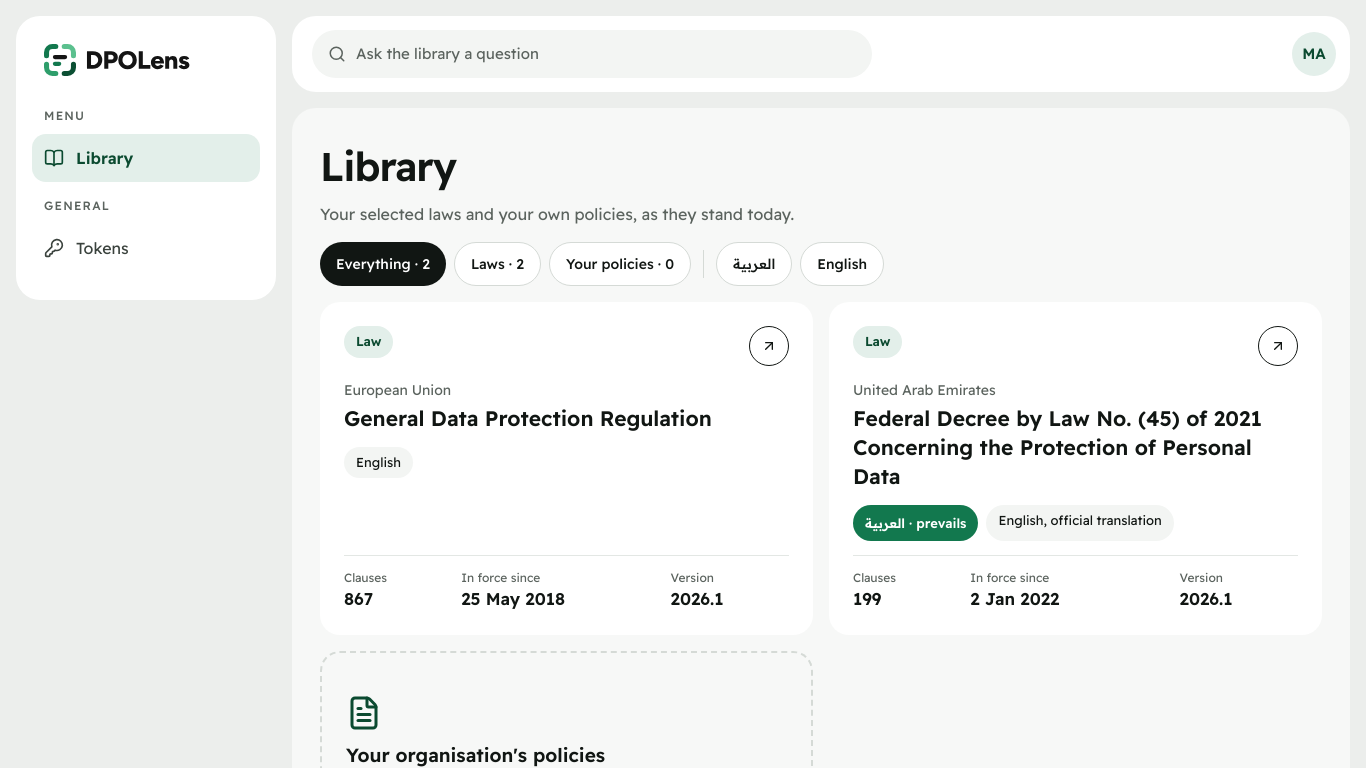
Test case: the library › filters by language
The image size is (1366, 768).
Expected: the heading "Federal Decree by Law No. (45) of 2021 Concerning the Protection of Personal Data" is shown, x1=853 y1=405 x2=1262 y2=489
Click the button "العربية": (754, 264) x1=716 y1=242 x2=792 y2=286
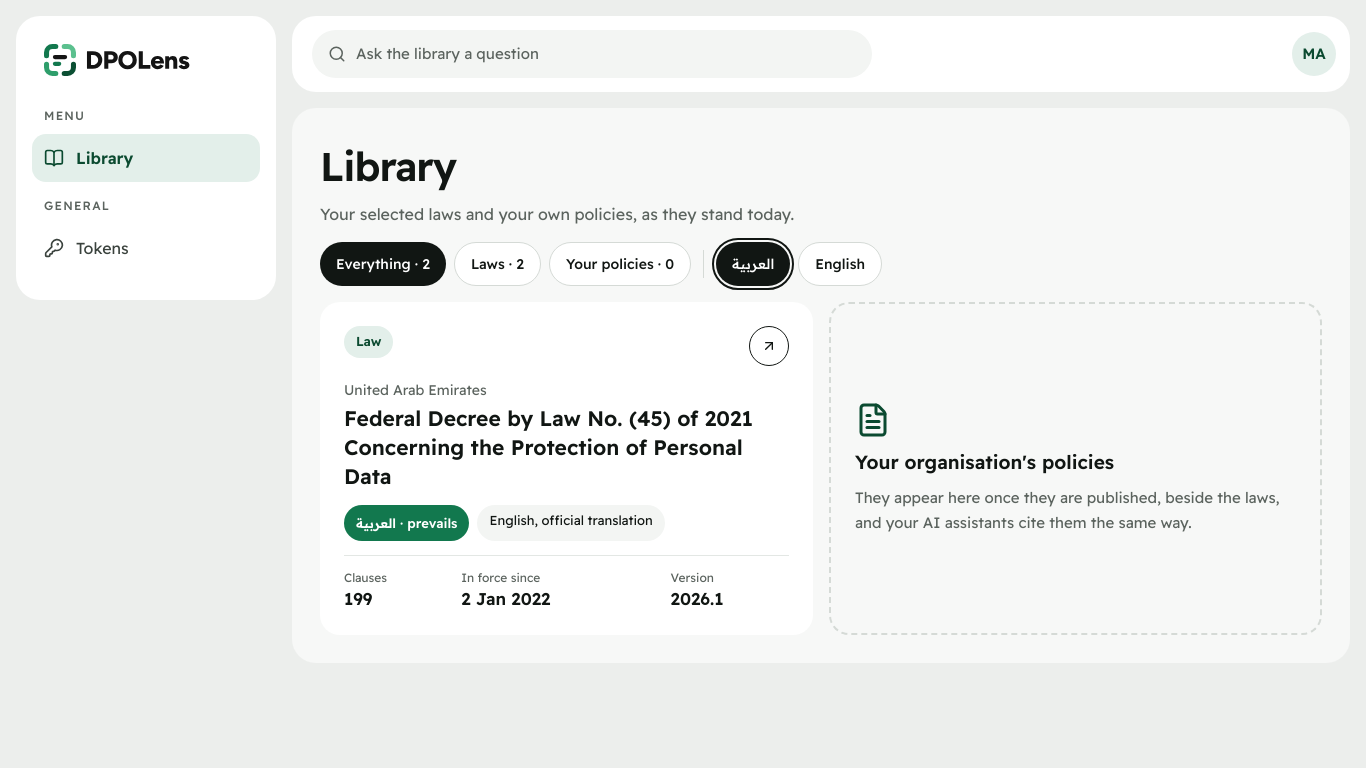
Expected: the heading "Federal Decree by Law No. (45) of 2021 Concerning the Protection of Personal Data" is shown, x1=344 y1=405 x2=753 y2=489
Result: the link "General Data Protection Regulation" is gone
